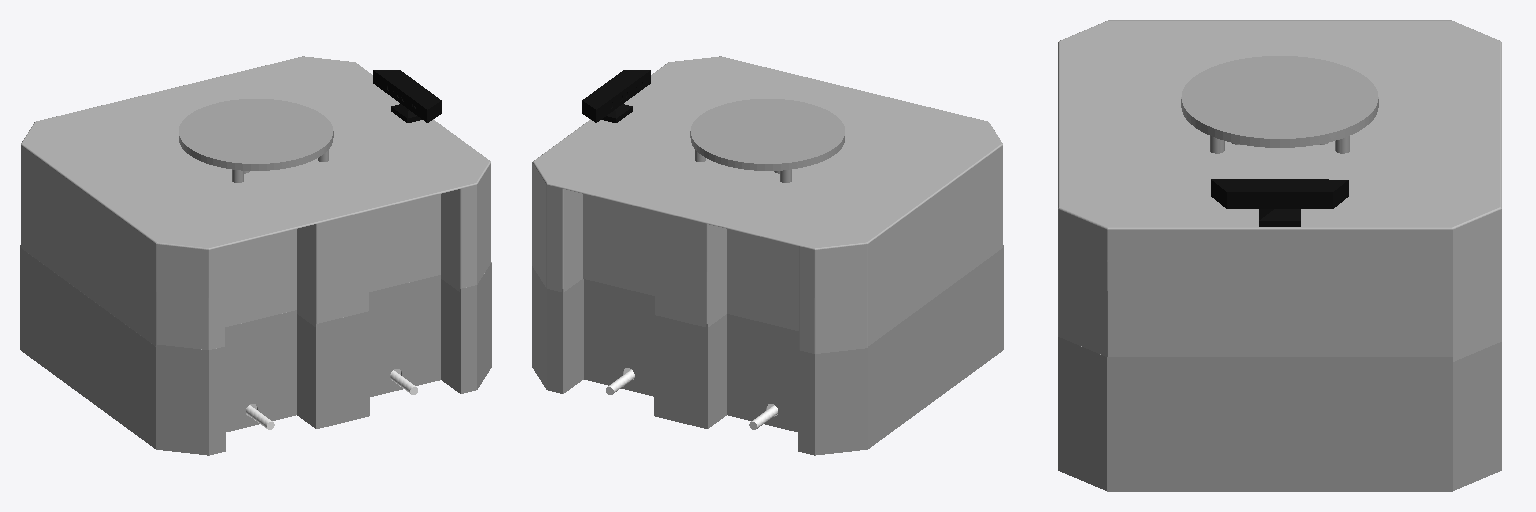
robot.urdf — my_amr:
    <robot name="my_amr">


        <link name="base_footprint"/>
        <link name="base">
        <inertial>
            <mass value="8.34" />
            <origin xyz="0 0 0.1" rpy="0 0 0" />
            <inertia ixx="0.002386469" iyy="0.004827723" izz="0.003252219" ixy="0.0" ixz="0.0" iyz="0.0" />
        </inertial>

        <visual>
            <geometry>
                <mesh filename="package://my_amr/meshes/Base_final.stl"/>
            </geometry>
            <material name="gray">
            <color rgba=".7 .7 .7 1" />
            </material>
        </visual>
    
        <collision>
            <geometry>
                <mesh filename="package://my_amr/meshes/Base_final.stl"/>
        </geometry>
        <contact_coefficients mu="1" mu2="1" kp="1e+13.0" kd="1.0"/>
        </collision>


        </link>
        <joint name="base_joint" type="fixed">
        <parent link="base_footprint"/>
        <child link="base"/>
        <origin rpy="0 0 0" xyz="0 0 0.093"/>
        </joint>

    <!-- 
    links for right front wheels
    -->    

    <link name="shaft_right_front">
        <inertial>
        <mass value="0.06175"/>
        <inertia ixx="0.000001112" iyy="0.000101416" izz="0.000101416" ixy="0.0" ixz="0.0" iyz="0.0"/>
        <origin/>
        </inertial>
    
        <visual>
            
            <geometry>
                <mesh filename="package://my_amr/meshes/shaft_final.stl"/>
            </geometry>

            <material name="white">
            <color rgba="1 1 1 1"/>
            </material>
        </visual>
    
        <collision>
            <geometry>
                <mesh filename="package://my_amr/meshes/shaft_final.stl"/>
            </geometry>
            <contact_coefficients mu="0" kp="1000.0" kd="1.0"/>
        </collision>

        </link>

    <link name="inner_right_front">
        <inertial>
        <mass value="0.94"/>
        <inertia ixx="0.001752394" iyy="0.001233251" izz="0.001233251" ixy="0.0" ixz="0.0" iyz="0.0"/>
        <origin/>
        </inertial>
    
        <visual>
            
            <geometry>
                <mesh filename="package://my_amr/meshes/inner_final.stl"/>
            </geometry>

            <material name="silver">
            <color rgba="0.917647059 0.925490196 0.925490196 1"/>
            </material>
        </visual>
    
        <collision>
            <geometry>
                <mesh filename="package://my_amr/meshes/inner_final.stl"/>
            </geometry>
            <contact_coefficients mu="0" kp="0.0" kd="0.0"/>
        </collision>

        </link>

    <link name="outer_right_front">
        <inertial>
        <mass value="0.11614"/>
        <inertia ixx="0.00036673" iyy="0.00036673" izz="0.000435441" ixy="0.0" ixz="0.0" iyz="0.0"/>
        <origin/>
        </inertial>
    
        <visual>
            
            <geometry>
                <mesh filename="package://my_amr/meshes/outer_final.stl"/>
            </geometry>

            <material name="white">
            <color rgba="0 0 0 1"/>
            </material>
        </visual>
    
        <collision>
            <geometry>
                <mesh filename="package://my_amr/meshes/outer_final.stl"/>
            </geometry>
            <contact_coefficients mu="0" kp="0.0" kd="0.0"/>
        </collision>

        </link>

    <!-- 
    links for left front wheels
    -->  

    <link name="shaft_left_front">
        <inertial>
        <mass value="0.06175"/>
        <inertia ixx="0.000001112" iyy="0.000101416" izz="0.000101416" ixy="0.0" ixz="0.0" iyz="0.0"/>
        <origin/>
        </inertial>
    
        <visual>
            
            <geometry>
                <mesh filename="package://my_amr/meshes/shaft_final.stl"/>
            </geometry>

            <material name="white">
            <color rgba="1 1 1 1"/>
            </material>
        </visual>
    
        <collision>
            <geometry>
                <mesh filename="package://my_amr/meshes/shaft_final.stl"/>
            </geometry>
            <contact_coefficients mu="0" kp="1000.0" kd="1.0"/>
        </collision>

        </link>

    <link name="inner_left_front">
        <inertial>
        <mass value="0.94"/>
        <inertia ixx="0.001752394" iyy="0.001233251" izz="0.001233251" ixy="0.0" ixz="0.0" iyz="0.0"/>
        <origin/>
        </inertial>
    
        <visual>
            
            <geometry>
                <mesh filename="package://my_amr/meshes/inner_final.stl"/>
            </geometry>

            <material name="silver">
            <color rgba="0.917647059 0.925490196 0.925490196 1"/>
            </material>
        </visual>
    
        <collision>
            <geometry>
                <mesh filename="package://my_amr/meshes/inner_final.stl"/>
            </geometry>
            <contact_coefficients mu="0" kp="0.0" kd="0.0"/>
        </collision>

        </link>

    <link name="outer_left_front">
        <inertial>
        <mass value="0.11614"/>
        <inertia ixx="0.00036673" iyy="0.00036673" izz="0.000435441" ixy="0.0" ixz="0.0" iyz="0.0"/>
        <origin/>
        </inertial>
    
        <visual>
            
            <geometry>
                <mesh filename="package://my_amr/meshes/outer_final.stl"/>
            </geometry>

            <material name="white">
            <color rgba="0 0 0 1"/>
            </material>
        </visual>
    
        <collision>
            <geometry>
                <mesh filename="package://my_amr/meshes/outer_final.stl"/>
            </geometry>
            <contact_coefficients mu="0" kp="0.0" kd="0.0"/>
        </collision>

        </link>

    <!-- 
    links for left back wheels
    -->  

    <link name="shaft_left_back">
        <inertial>
        <mass value="0.06175"/>
        <inertia ixx="0.000001112" iyy="0.000101416" izz="0.000101416" ixy="0.0" ixz="0.0" iyz="0.0"/>
        <origin/>
        </inertial>
    
        <visual>
            
            <geometry>
                <mesh filename="package://my_amr/meshes/shaft_final.stl"/>
            </geometry>

            <material name="white">
            <color rgba="1 1 1 1"/>
            </material>
        </visual>
    
        <collision>
            <geometry>
                <mesh filename="package://my_amr/meshes/shaft_final.stl"/>
            </geometry>
            <contact_coefficients mu="0" kp="1000.0" kd="1.0"/>
        </collision>

        </link>

    <link name="inner_left_back">
        <inertial>
        <mass value="0.94"/>
        <inertia ixx="0.001752394" iyy="0.001233251" izz="0.001233251" ixy="0.0" ixz="0.0" iyz="0.0"/>
        <origin/>
        </inertial>
    
        <visual>
            
            <geometry>
                <mesh filename="package://my_amr/meshes/inner_final.stl"/>
            </geometry>

            <material name="silver">
            <color rgba="0.917647059 0.925490196 0.9254901961 1"/>
            </material>
        </visual>
    
        <collision>
            <geometry>
                <mesh filename="package://my_amr/meshes/inner_final.stl"/>
            </geometry>
            <contact_coefficients mu="0" kp="0.0" kd="0.0"/>
        </collision>

        </link>

    <link name="outer_left_back">
        <inertial>
        <mass value="0.11614"/>
        <inertia ixx="0.00036673" iyy="0.00036673" izz="0.000435441" ixy="0.0" ixz="0.0" iyz="0.0"/>
        <origin/>
        </inertial>
    
        <visual>
            
            <geometry>
                <mesh filename="package://my_amr/meshes/outer_final.stl"/>
            </geometry>

            <material name="white">
            <color rgba="0 0 0 1"/>
            </material>
        </visual>
    
        <collision>
            <geometry>
                <mesh filename="package://my_amr/meshes/outer_final.stl"/>
            </geometry>
            <contact_coefficients mu="0" kp="0.0" kd="0.0"/>
        </collision>

        </link>

    <!-- 
    links for right back wheels
    -->  

    <link name="shaft_right_back">
        <inertial>
        <mass value="0.06175"/>
        <inertia ixx="0.000001112" iyy="0.000101416" izz="0.000101416" ixy="0.0" ixz="0.0" iyz="0.0"/>
        <origin/>
        </inertial>
    
        <visual>
            
            <geometry>
                <mesh filename="package://my_amr/meshes/shaft_final.stl"/>
            </geometry>

            <material name="white">
            <color rgba="1 1 1 1"/>
            </material>
        </visual>
    
        <collision>
            <geometry>
                <mesh filename="package://my_amr/meshes/shaft_final.stl"/>
            </geometry>
            <contact_coefficients mu="0" kp="1000.0" kd="1.0"/>
        </collision>

        </link>

    <link name="inner_right_back">
        <inertial>
        <mass value="0.94"/>
        <inertia ixx="0.001752394" iyy="0.001233251" izz="0.001233251" ixy="0.0" ixz="0.0" iyz="0.0"/>
        <origin/>
        </inertial>
    
        <visual>
            
            <geometry>
                <mesh filename="package://my_amr/meshes/inner_final.stl"/>
            </geometry>

            <material name="silver">
            <color rgba="0.917647059 0.925490196 0.925490196 1"/>
            </material>
        </visual>
    
        <collision>
            <geometry>
                <mesh filename="package://my_amr/meshes/inner_final.stl"/>
            </geometry>
            <contact_coefficients mu="0" kp="0.0" kd="0.0"/>
        </collision>

        </link>

    <link name="outer_right_back">
        <inertial>
        <mass value="0.11614"/>
        <inertia ixx="0.00036673" iyy="0.00036673" izz="0.000435441" ixy="0.0" ixz="0.0" iyz="0.0"/>
        <origin/>
        </inertial>
    
        <visual>
            
            <geometry>
                <mesh filename="package://my_amr/meshes/outer_final.stl"/>
            </geometry>

            <material name="white">
            <color rgba="0 0 0 1"/>
            </material>
        </visual>
    
        <collision>
            <geometry>
                <mesh filename="package://my_amr/meshes/outer_final.stl"/>
            </geometry>
            <contact_coefficients mu="0" kp="0.0" kd="0.0"/>
        </collision>

        </link>

    <!-- 
    link for top of the bot
    -->  

    <link name="bot_top">
        <inertial>
        <mass value="8.47"/>
        <inertia ixx="0.002307898" iyy="0.004479378" izz="0.002685416" ixy="0.0" ixz="0.0" iyz="0.0"/>
        <origin/>
        </inertial>
    
        <visual>
            
            <geometry>
                <mesh filename="package://my_amr/meshes/top_final.stl"/>
            </geometry>

            <material name="gray">
            <color rgba="0.7529 0.7529 0.7529 1"/>
            </material>
        </visual>
    
        <collision>
            <geometry>
                <mesh filename="package://my_amr/meshes/top_final.stl"/>
            </geometry>
            <contact_coefficients mu="0" kp="0.0" kd="0.0"/>
        </collision>

        </link>

    <!-- 
    link for top of the bot plate
    -->  

    <link name="bot_top_plate">
        <inertial>
        <mass value="2.54605"/>
        <inertia ixx="0.000065178" iyy="0.000128019" izz="0.000065178" ixy="0.0" ixz="0.0" iyz="0.0"/>
        <origin/>
        </inertial>
    
        <visual>
            
            <geometry>
                <mesh filename="package://my_amr/meshes/top_plate_final.stl"/>
            </geometry>

            <material name="gray">
            <color rgba=".7 .7 .7 1" />
            </material>
        </visual>
    
        <collision>
            <geometry>
                <mesh filename="package://my_amr/meshes/top_final.stl"/>
            </geometry>
            <contact_coefficients mu="0" kp="0.0" kd="0.0"/>
        </collision>

        </link>

    <!-- 
    link for kinect camera
    -->  

    <link name="kinect_camera">
        <inertial>
        <mass value="0.350"/>
        <inertia ixx="0.003042698" iyy="0.000488640" izz="0.002953811" ixy="0.0" ixz="0.0" iyz="0.0"/>
        <origin/>
        </inertial>
    
        <visual>
            
            <geometry>
                <mesh filename="package://my_amr/meshes/kinect.stl"/>
            </geometry>

            <material name="black">
            <color rgba="0.1 0.1 0.1 1" />
            </material>
        </visual>
    
        <collision>
            <geometry>
                <mesh filename="package://my_amr/meshes/kinect.stl"/>
            </geometry>
            <contact_coefficients mu="0" kp="0.0" kd="0.0"/>
        </collision>

        </link>

    <!-- 
    link for lidar
    -->  

    <link name="lidar">
        <inertial>
        <mass value="0.175"/>
        <inertia ixx="0.000380890" iyy="0.000594858" izz="0.000679996" ixy="0.0" ixz="0.0" iyz="0.0"/>
        <origin/>
        </inertial>
    
        <visual>
            
            <geometry>
                <mesh filename="package://my_amr/meshes/lidar.stl"/>
            </geometry>

            <material name="black">
            <color rgba="0.18 0.18 0.18 1" />
            </material>
        </visual>
    
        <collision>
            <geometry>
                <mesh filename="package://my_amr/meshes/lidar.stl"/>
            </geometry>
            <contact_coefficients mu="0" kp="0.0" kd="0.0"/>
        </collision>

        </link>


    <!-- 
    joints for right back wheels
    -->
        <joint name="rotor_right_back_joint" type="continuous">
        <origin xyz="-0.108 0.19 -0.028  " rpy="0 0.0 0.0"/>
        <parent link="base"/>
        <child link="shaft_right_back"/>
        <axis xyz="0.0 1 0"/>
        </joint>\

        <joint name="inner_right_back_joint" type="fixed">
        <origin xyz="-0.0 0.022 0.0  " rpy="0 0.0 0.0"/>
        <parent link="shaft_right_back"/>
        <child link="inner_right_back"/>
        <axis xyz="0.0 0.0 0.0"/>
        </joint>

        <joint name="outer_right_back_joint" type="fixed">
        <origin xyz="0.0 0.0 0.0  " rpy="0 0.0 0.0"/>
        <parent link="inner_right_back"/>
        <child link="outer_right_back"/>
        <axis xyz="0.0 0.0 0.0"/>
        </joint>
    <!-- 
    joints for left back wheels
    -->
        <joint name="rotor_left_back_joint" type="continuous">
        <origin xyz="-0.108 -0.19 -0.028  " rpy="3.14 0.0 0.0"/>
        <parent link="base"/>
        <child link="shaft_left_back"/>
        <axis xyz="0.0 -1 0"/>
        </joint>\

        <joint name="inner_left_back_joint" type="fixed">
        <origin xyz="-0.0 0.022 0.0  " rpy="0 0.0 0.0"/>
        <parent link="shaft_left_back"/>
        <child link="inner_left_back"/>
        <axis xyz="0.0 0.0 0.0"/>
        </joint>

        <joint name="outer_left_back_joint" type="fixed">
        <origin xyz="0.0 0.0 0.0  " rpy="0 0.0 0.0"/>
        <parent link="inner_left_back"/>
        <child link="outer_left_back"/>
        <axis xyz="0.0 0.0 0.0"/>
        </joint>    
    <!-- 
    joints for left back wheels
    -->
        <joint name="rotor_left_front_joint" type="continuous">
        <origin xyz="0.106 -0.19 -0.028  " rpy="3.14 0.0 0.0"/>
        <parent link="base"/>
        <child link="shaft_left_front"/>
        <axis xyz="0.0 -1 0"/>
        </joint>\

        <joint name="inner_left_front_joint" type="fixed">
        <origin xyz="0.0 0.022 0.0  " rpy="0 0.0 0.0"/>
        <parent link="shaft_left_front"/>
        <child link="inner_left_front"/>
        <axis xyz="0.0 0.0 0.0"/>
        </joint>

        <joint name="outer_left_front_joint" type="fixed">
        <origin xyz="0.0 0.0 0.0" rpy="0 0.0 0.0"/>
        <parent link="inner_left_front"/>
        <child link="outer_left_front"/>
        <axis xyz="0.0 0.0 0.0"/>
        </joint> 

    <!-- 
    joints for right back wheels
    -->
        <joint name="rotor_right_front_joint" type="continuous">
        <origin xyz="0.106 0.19 -0.028  " rpy="0.0 0.0 0.0"/>
        <parent link="base"/>
        <child link="shaft_right_front"/>
        <axis xyz="0.0 1 0"/>
        </joint>\

        <joint name="inner_right_front_joint" type="fixed">
        <origin xyz="0.0 0.022 0.0  " rpy="0 0.0 0.0"/>
        <parent link="shaft_right_front"/>
        <child link="inner_right_front"/>
        <axis xyz="0.0 0.0 0.0"/>
        </joint>

        <joint name="outer_right_front_joint" type="fixed">
        <origin xyz="0.0 0.0 0.0" rpy="0 0.0 0.0"/>
        <parent link="inner_right_front"/>
        <child link="outer_right_front"/>
        <axis xyz="0.0 0.0 0.0"/>
        </joint> 

    <!-- 
    joints for bot top
    -->
        <joint name="bot_top_joint" type="fixed">
        <origin xyz="0.0 0.0 0.2  " rpy="0.0 0.0 0.0"/>
        <parent link="base"/>
        <child link="bot_top"/>
        <axis xyz="0.0 0.0 0"/>
        </joint>\

    <!-- 
    joint for bot top plate
    -->
        <joint name="bot_top_plate_joint" type="prismatic">
        <origin xyz="0.0 0.0 0.07" rpy="0.0 0.0 0.0"/>
        <limit lower="0.00" upper="0.07" effort="100.0" velocity="1.0"/>
        <parent link="bot_top"/>
        <child link="bot_top_plate"/>
        <axis xyz="0.0 0.0 1"/>
        </joint>\

    <!-- 
    joint for kinect
    -->
        <joint name="kinect_camera_joint" type="fixed">
        <origin xyz="0.23 0.0 0.07" rpy="0.0 0.0 3.14"/>
        <parent link="bot_top"/>
        <child link="kinect_camera"/>
        <axis xyz="0.0 0.0 0"/>
        </joint>\

    <!-- 
    joint for lidar
    -->
        <joint name="lidar_joint" type="fixed">
        <origin xyz="0.18 0.11 0.07" rpy="0.0 0.0 0"/>
        <parent link="bot_top"/>
        <child link="lidar"/>
        <axis xyz="0.0 0.0 0"/>
        </joint>\


        <!-- <gazebo>
        <plugin filename="libgazebo_ros_4wd_diff_drive.so" name="gazebo_4wd_controller">
            <odometry_frame>odom</odometry_frame>
            <commandTopic>cmd_vel_4wd</commandTopic>
            <publish_odom>true</publish_odom>
            <publish_odom_tf>true</publish_odom_tf>
            <update_rate>15.0</update_rate>
            <left_front_joint>rotor_left_front_joint</left_front_joint>
            <right_front_joint>rotor_right_front_joint</right_front_joint>
            <left_rear_joint>rotor_left_back_joint</left_rear_joint>
            <right_rear_joint>rotor_right_back_joint</right_rear_joint> -->
        <!-- 40cm -->
            <!-- <wheel_separation>0.4</wheel_separation> -->
        <!-- 13cm -->
            <!-- <left_front_wheel_diameter>0.13</left_front_wheel_diameter>
            <right_front_wheel_diameter>0.13</right_front_wheel_diameter>
            <left_rear_wheel_diameter>0.13</left_rear_wheel_diameter>
            <right_rear_wheel_diameter>0.13</right_rear_wheel_diameter>
            <robotBaseFrame>base</robotBaseFrame> -->
        <!-- 0.25m/s^2 -->
            <!-- <max_wheel_acceleration>0.25</max_wheel_acceleration>
        </plugin>
        </gazebo>
    -->

        


        <gazebo>
            <plugin filename="libgazebo_ros_diff_drive.so" name="gazebo_base_controller">
            <odometry_frame>odom</odometry_frame>
            <commandTopic>cmd_vel</commandTopic>
            <publish_odom>true</publish_odom>
            <publish_odom_tf>true</publish_odom_tf>
            <update_rate>15.0</update_rate>
            <left_joint>rotor_left_back_joint</left_joint>
            <right_joint>rotor_right_back_joint</right_joint>
            <wheel_separation>0.4</wheel_separation>
            <wheel_diameter>0.13</wheel_diameter>
            <max_wheel_acceleration>0.25</max_wheel_acceleration>
            <robotBaseFrame>base</robotBaseFrame>
        
            </plugin>
        </gazebo>

        <gazebo>
            <plugin filename="libgazebo_ros_diff_drive.so" name="gazebo_base_controller1">
            <odometry_frame>odom</odometry_frame>
            <commandTopic>cmd_vel</commandTopic>
            <publish_odom>true</publish_odom>
            <publish_odom_tf>true</publish_odom_tf>
            <update_rate>15.0</update_rate>
            <left_joint>rotor_left_front_joint</left_joint>
            <right_joint>rotor_right_front_joint</right_joint>
            <wheel_separation>0.4</wheel_separation>
            <wheel_diameter>0.13</wheel_diameter>
            <max_wheel_acceleration>0.25</max_wheel_acceleration>
            <robotBaseFrame>base</robotBaseFrame>
        
            </plugin>
        </gazebo>
    

        <gazebo reference="base">
        <material>Gazebo/Grey</material>
        </gazebo>
        <gazebo reference="bot_top">
        <material>Gazebo/Grey</material>
        </gazebo>
        <gazebo reference="shaft_right_front">
        <material>Gazebo/Grey</material>
        </gazebo>
        <gazebo reference="shaft_left_front">
        <material>Gazebo/Grey</material>
        </gazebo>
        <gazebo reference="shaft_right_back">
        <material>Gazebo/Grey</material>
        </gazebo>
        <gazebo reference="shaft_left_back">
        <material>Gazebo/Grey</material>
        </gazebo>
        <gazebo reference="inner_right_front">
        <material>Gazebo/White</material>
        </gazebo>
        <gazebo reference="inner_left_front">
        <material>Gazebo/White</material>
        </gazebo>
        <gazebo reference="inner_right_back">
        <material>Gazebo/White</material>
        </gazebo>
        <gazebo reference="inner_left_back">
        <material>Gazebo/White</material>
        </gazebo>
        <gazebo reference="outer_right_front">
        <material>Gazebo/Black</material>
        </gazebo>
        <gazebo reference="outer_left_front">
        <material>Gazebo/Black</material>
        </gazebo>
        <gazebo reference="outer_right_back">
        <material>Gazebo/Black</material>
        </gazebo>
        <gazebo reference="outer_left_back">
        <material>Gazebo/Black</material>
        </gazebo>
        <gazebo reference="bot_top_plate">
        <material>Gazebo/Grey</material>
        </gazebo>
        <gazebo reference="kinect_camera">
        <material>Gazebo/Black</material>
        </gazebo>
        <gazebo reference="lidar">
        <material>Gazebo/Black</material>
        </gazebo>


    </robot>
    

--- What the picture shows (computed from the rendered views, not written in the file) ---
The picture shows the robot from 3 angles, left to right: view 1: azimuth 30°, elevation 25°; view 2: azimuth 150°, elevation 25°; view 3: azimuth 270°, elevation 25°; orthographic projection.
Robot: my_amr — 18 links, 17 joints (4 continuous, 1 prismatic, 12 fixed); root link base_footprint; default pose: every joint at zero.
Links seen in each view (by area): view 1: bot_top, base, bot_top_plate, kinect_camera; view 2: bot_top, base, bot_top_plate, kinect_camera; view 3: bot_top, base, bot_top_plate, kinect_camera.
Boxes of the visible links, box(x1,y1,x2,y2) form: bot_top: box(21, 56, 490, 349); base: box(20, 245, 491, 455); bot_top_plate: box(179, 99, 333, 182); kinect_camera: box(373, 70, 441, 122); bot_top: box(532, 56, 1002, 353); base: box(532, 245, 1003, 455); bot_top_plate: box(690, 99, 844, 182); kinect_camera: box(582, 70, 650, 122); bot_top: box(1058, 20, 1501, 361); base: box(1058, 337, 1501, 491); bot_top_plate: box(1181, 56, 1378, 153); kinect_camera: box(1211, 179, 1348, 226).
Size in the robot's own frame: 0.5 by 0.4501 by 0.3329 metres.
Meshes: 8 distinct files referenced, 8 mesh visuals loaded (5 binary STL); not drawn: 9 (reference not matched to a file when rendering).